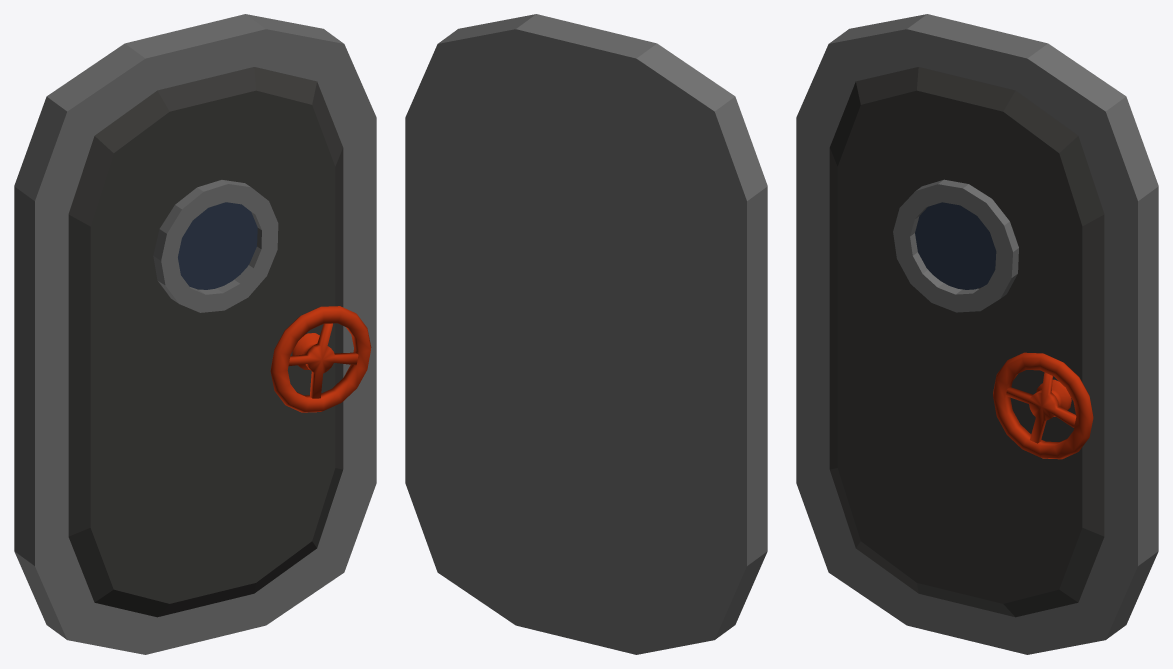
The model's file is Door_mechanical.glb.
The picture shows the model from 3 angles, left to right: view 1: azimuth 30°, elevation 25°; view 2: azimuth 150°, elevation 25°; view 3: azimuth 330°, elevation 25°; orthographic projection.
Visible parts, largest first — view 1: Cylinder; view 2: Cylinder; view 3: Cylinder.
Part boxes in pixels (x1,y1,x2,y2): Cylinder: (14, 14, 376, 654); Cylinder: (405, 14, 767, 654); Cylinder: (796, 14, 1158, 654).
Size of the model in its own units: 3 by 5 by 0.6557.
1 material, 1 textured.
